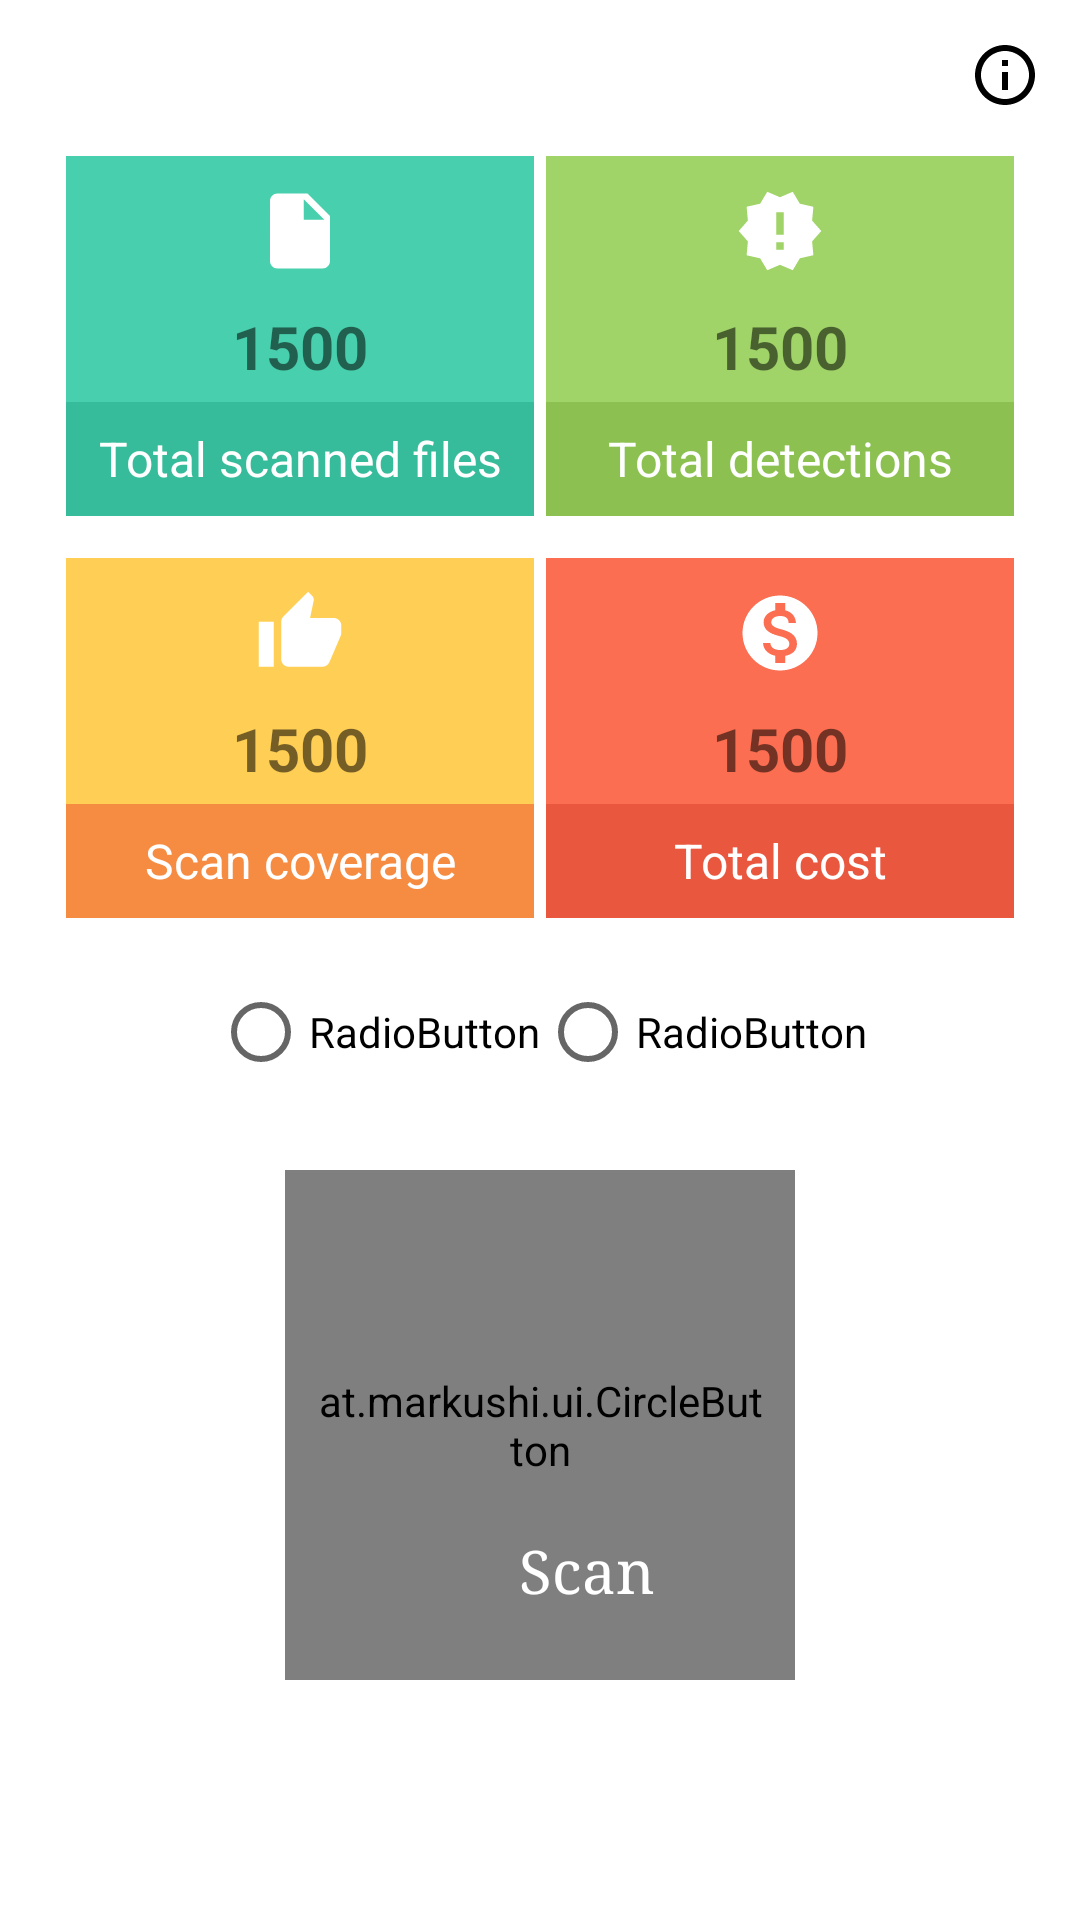

Locate icon controls on the screen. Image size 1080*1920, boxes as bbox(x1, y1, x2, y2).
info: bbox(975, 45, 1035, 105)
